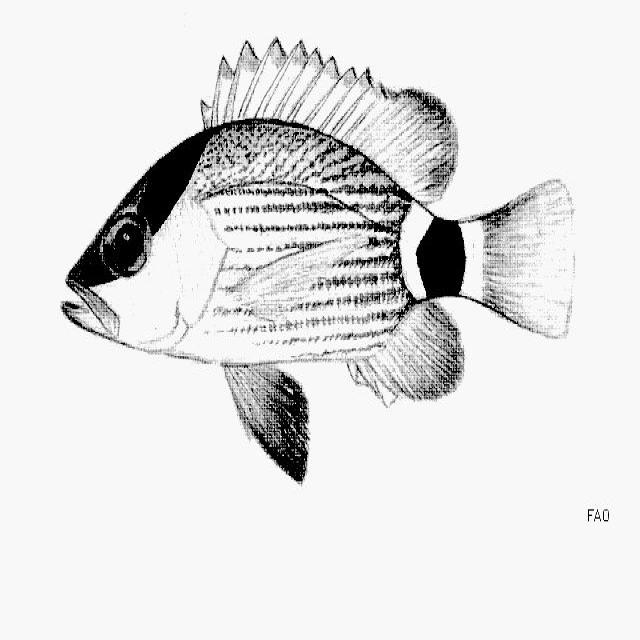ikan: (60, 35, 576, 482)
